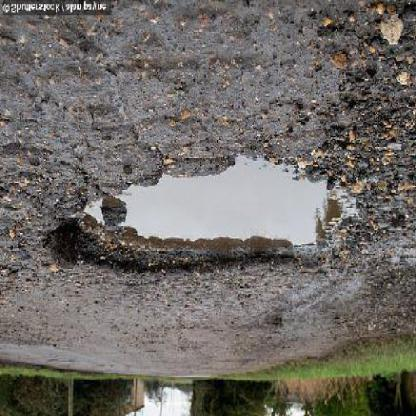pothole: (45, 151, 377, 281)
